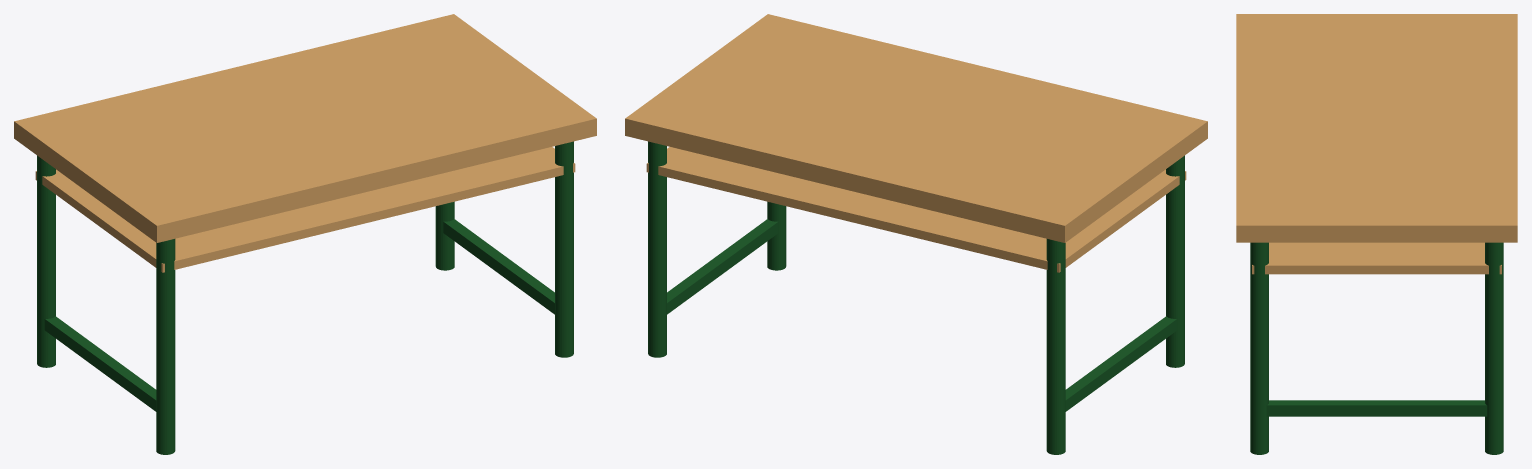
File: szkolna_lawka.obj
3 views of the same model, side by side, from view 1: azimuth 30°, elevation 25°; view 2: azimuth 150°, elevation 25°; view 3: azimuth 270°, elevation 25° (orthographic).
Parts seen in each view (by area): view 1: BlatLawki; view 2: BlatLawki; view 3: BlatLawki.
Part boxes in pixels (x1,y1,x2,y2): BlatLawki: (14, 14, 596, 454); BlatLawki: (625, 14, 1207, 454); BlatLawki: (1236, 14, 1517, 454).
Bounding box in the file's own units: 3.2 × 1.66 × 1.8.
